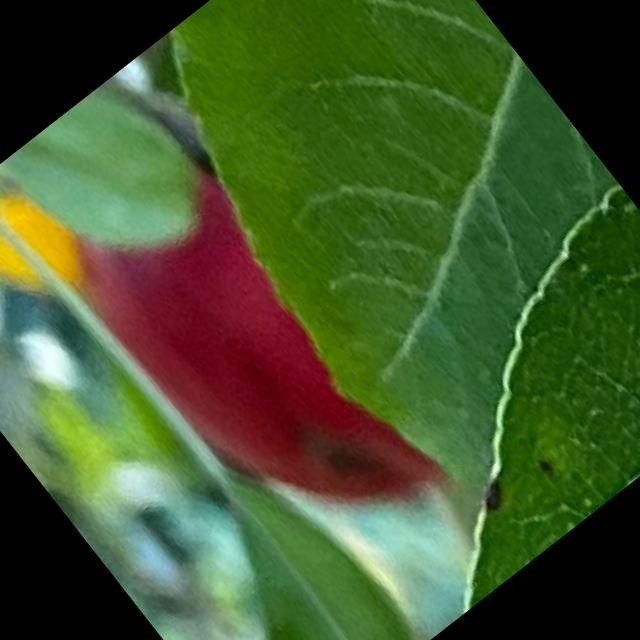Apples: (56, 147, 448, 578)
